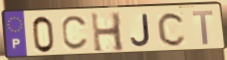0: (31, 15, 55, 55)
C: (156, 10, 188, 48), (60, 14, 90, 52)
H: (89, 11, 126, 54)
J: (129, 12, 153, 48)
T: (190, 9, 215, 47)
